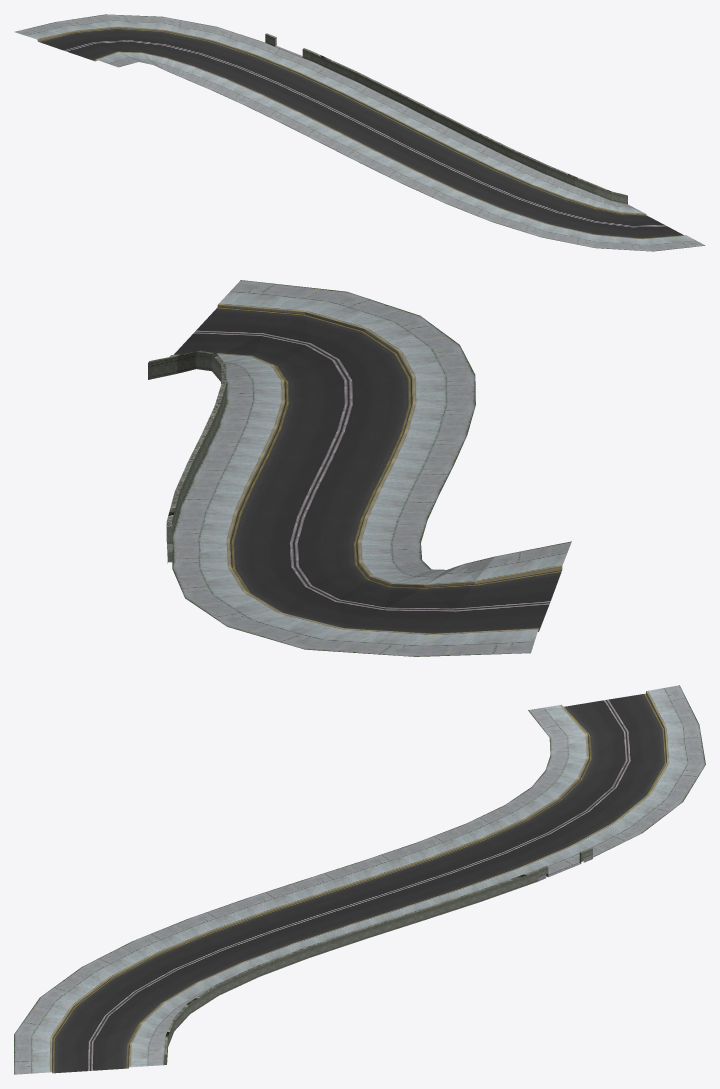
File: roads04_law2.obj
3 views of the same model, one above another, from view 1: azimuth 30°, elevation 25°; view 2: azimuth 150°, elevation 25°; view 3: azimuth 270°, elevation 25° (orthographic). The views are drawn at different scales.
Visible parts, largest first — view 1: Roads04_LAw2; view 2: Roads04_LAw2; view 3: Roads04_LAw2.
Part boxes in pixels (left/top/right/bottom): Roads04_LAw2: left=15, top=14, right=705, bottom=251; Roads04_LAw2: left=148, top=280, right=571, bottom=656; Roads04_LAw2: left=14, top=685, right=705, bottom=1074.
Bounding box in the file's own units: 76.04 × 20.25 × 89.44.
